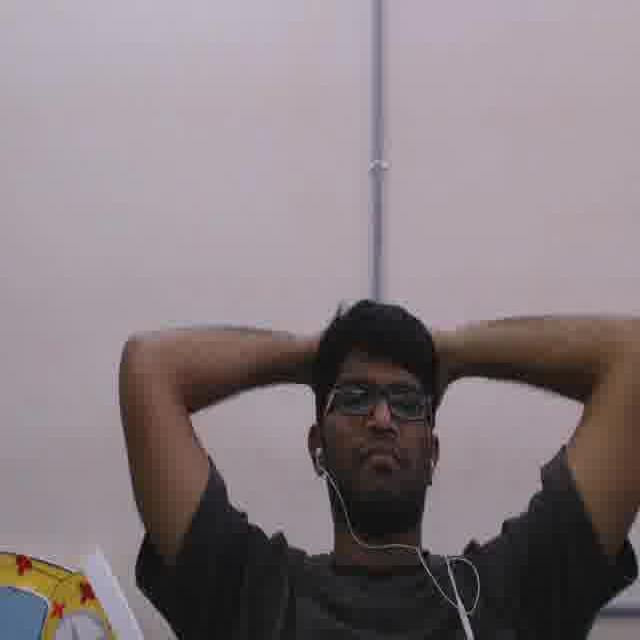Boredom: (328, 348, 428, 501)
